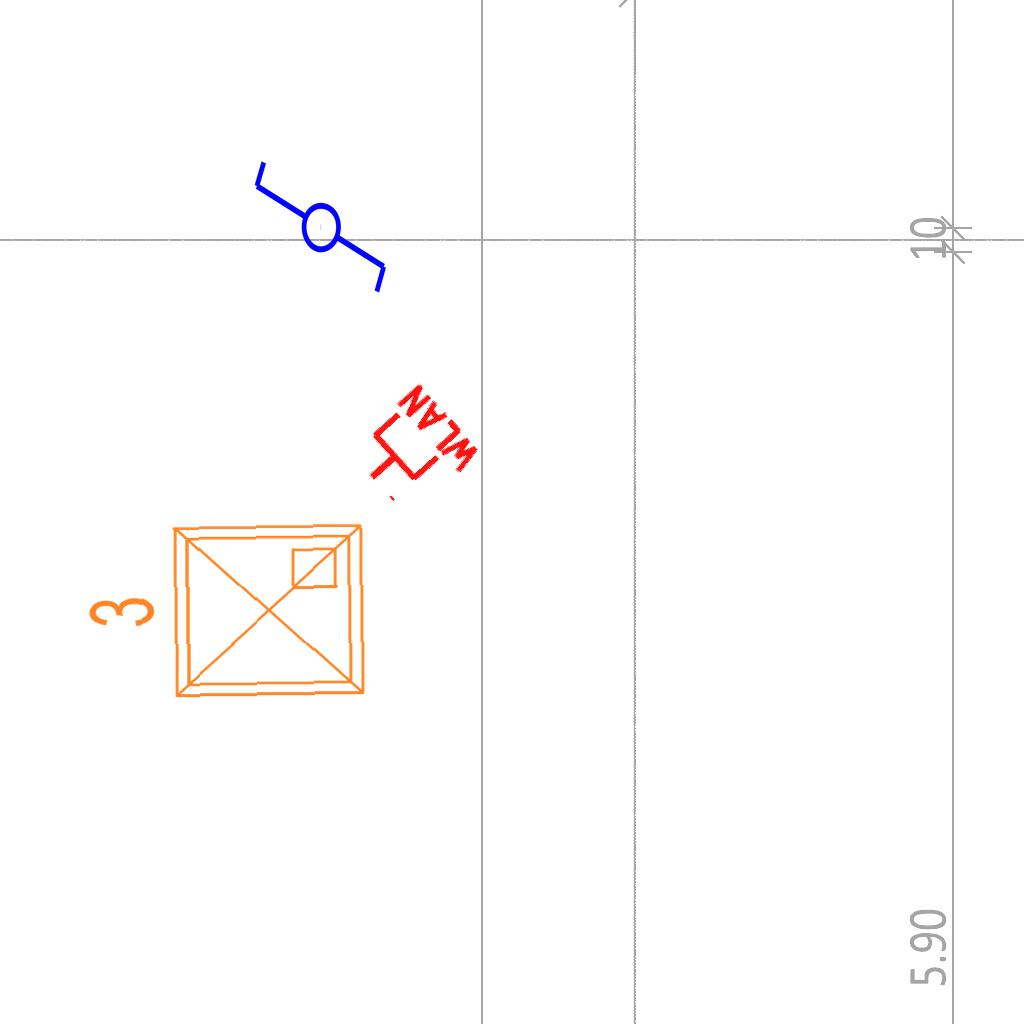Einbaudownlights_LED_Konferenzraeume: (76, 508, 380, 722)
WLAN: (339, 378, 488, 526)
Wechselschalter: (247, 157, 391, 314)
